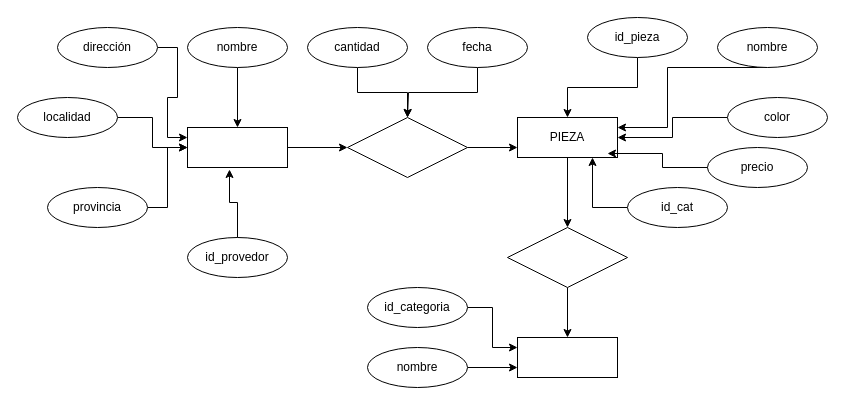
This 845x405 diagram has some shape labels left out. Here are the shapes that lost their labels. From the top down, the centre of each, then its label:
At point 237,147: "PROVEDORES".
At point 407,147: "suministro".
At point 567,257: "PERTENECE".
At point 567,357: "CATEGORIA".
